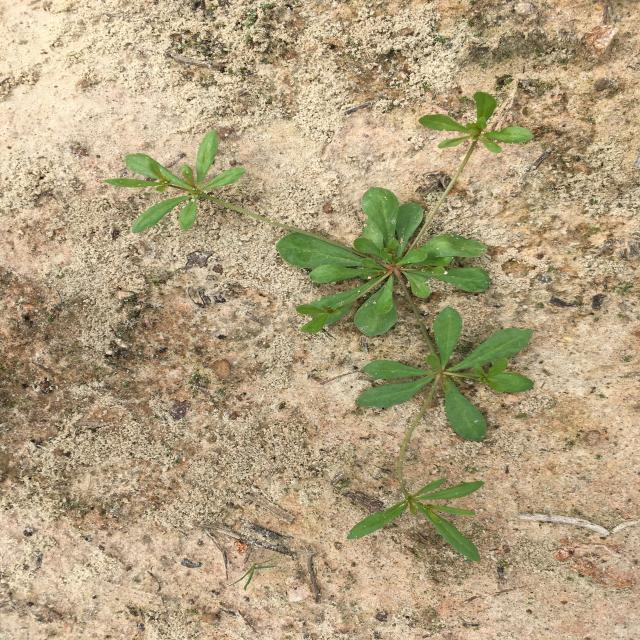Carpetweed: (101, 92, 535, 563)
